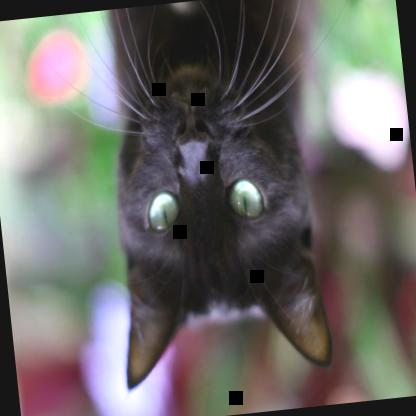cat: (88, 0, 356, 390)
